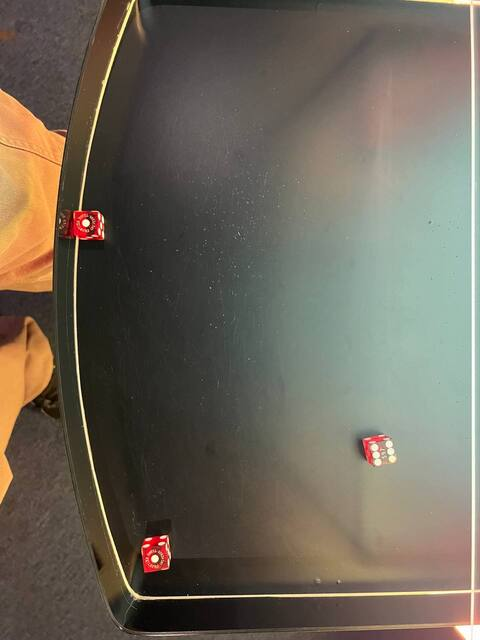one: (139, 543, 170, 575), (69, 209, 100, 239)
six: (366, 438, 401, 469)
